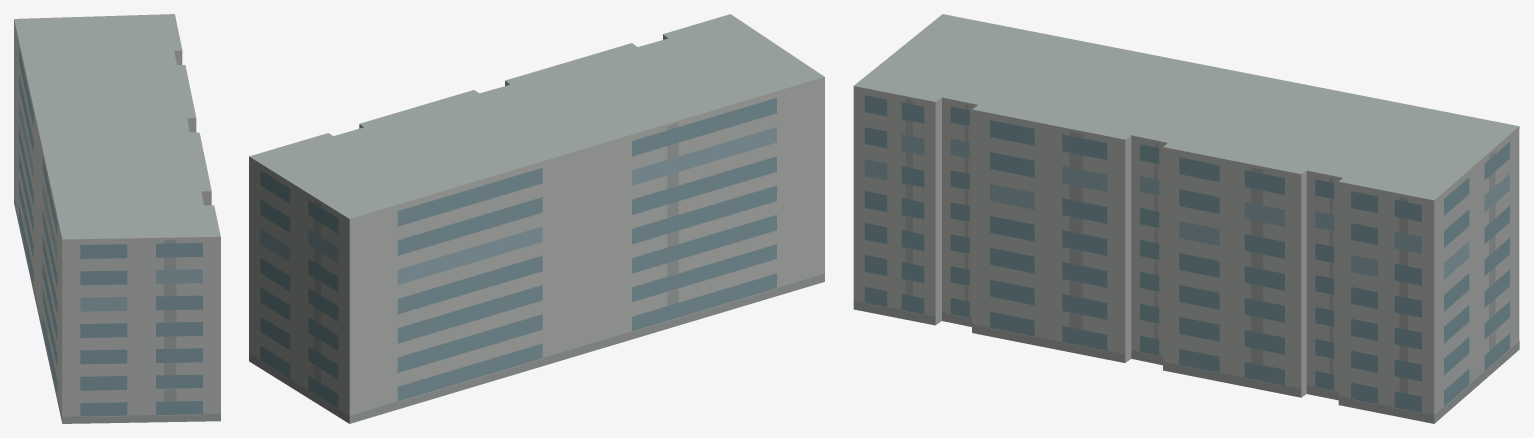
File: survey-upis-33031546.glb
3 renders of one model, left to right at view 1: azimuth 30°, elevation 25°; view 2: azimuth 150°, elevation 25°; view 3: azimuth 270°, elevation 25°, orthographic. The views are drawn at different scales.
Parts seen in each view (by area): view 1: survey-upis-33031546.tmp; view 2: survey-upis-33031546.tmp; view 3: survey-upis-33031546.tmp.
Boxes of the visible parts, x1=… form: survey-upis-33031546.tmp: x1=14, y1=14, x2=220, y2=423; survey-upis-33031546.tmp: x1=249, y1=14, x2=824, y2=423; survey-upis-33031546.tmp: x1=853, y1=14, x2=1519, y2=423.
Bounding box in the file's own units: 35.09 × 19.6 × 52.94.
